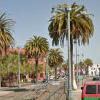Palm tree: (48, 3, 94, 78)
